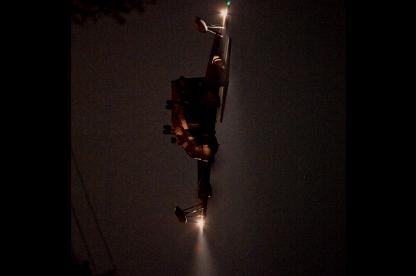Tu95: (162, 0, 233, 235)
